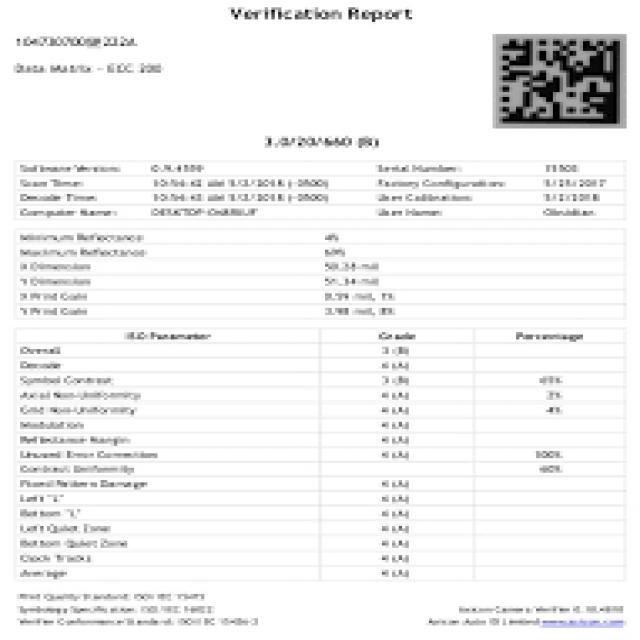Data-Matrix: (486, 29, 633, 136)
